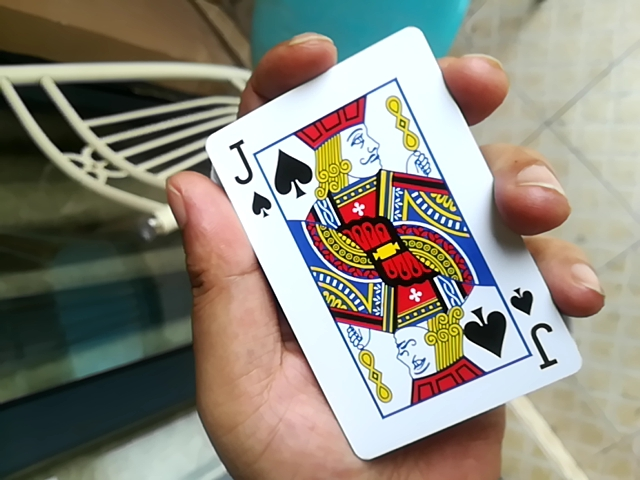ht j: (205, 26, 574, 455)
